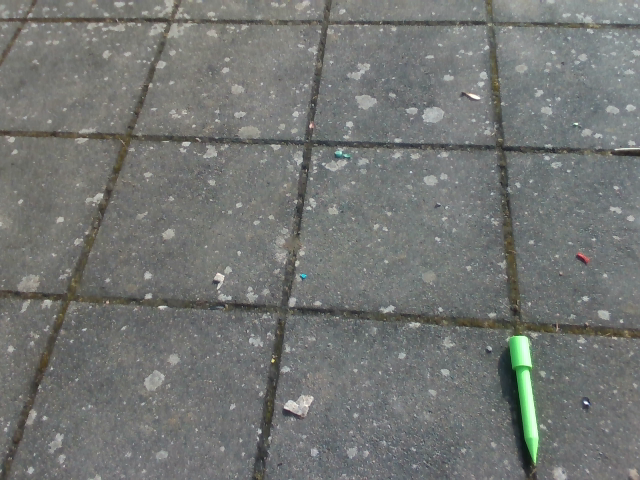Probe: (503, 331, 549, 469)
